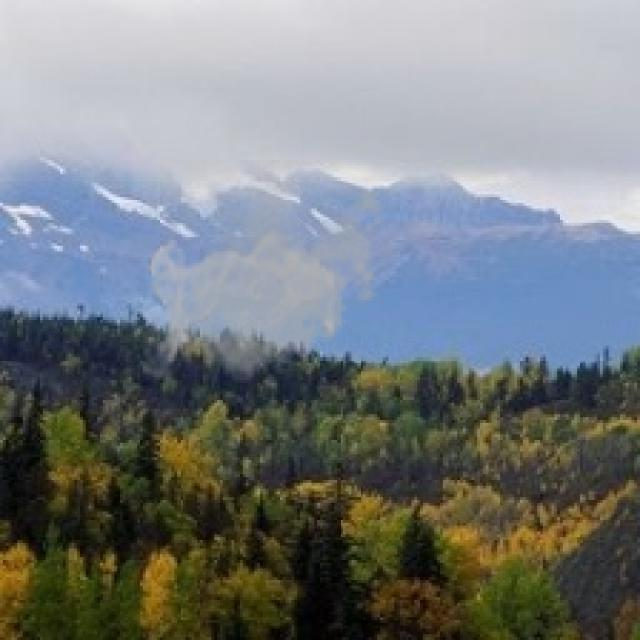smoke: (143, 160, 391, 391)
